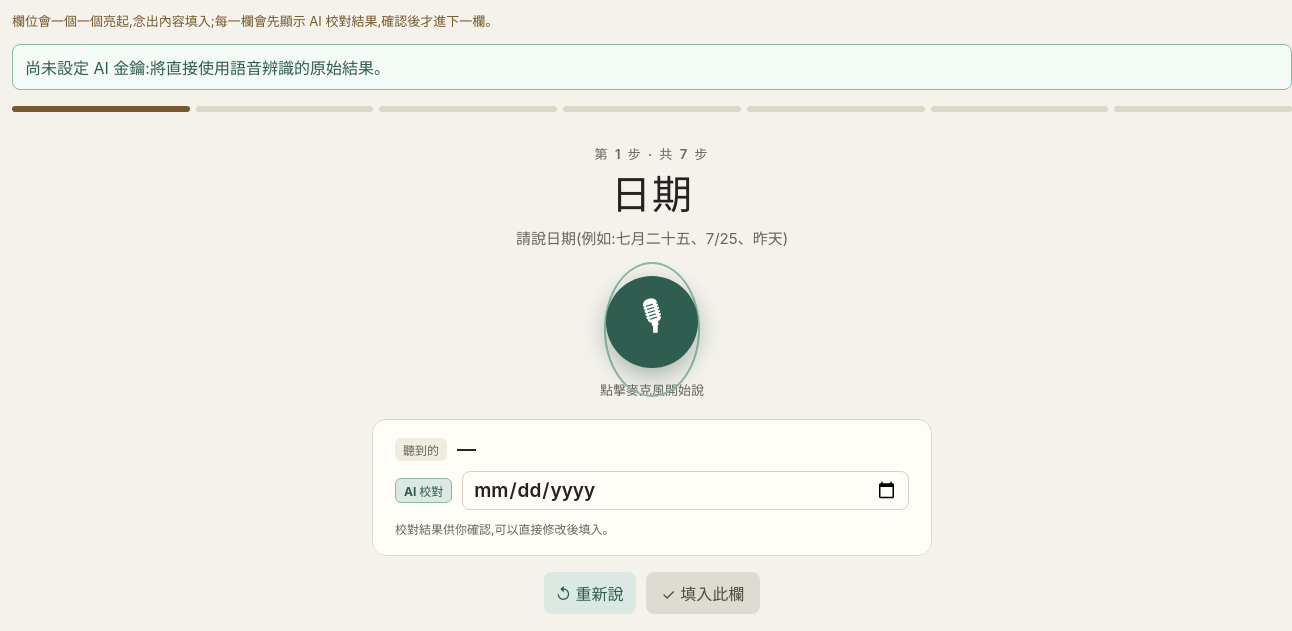
Scenario: ModeBPanel › falls back to the raw transcript when AI is not configured
The width and height of the screenshot is (1292, 631).
Click the button named "用說的": (652, 322) [606,276,698,368]
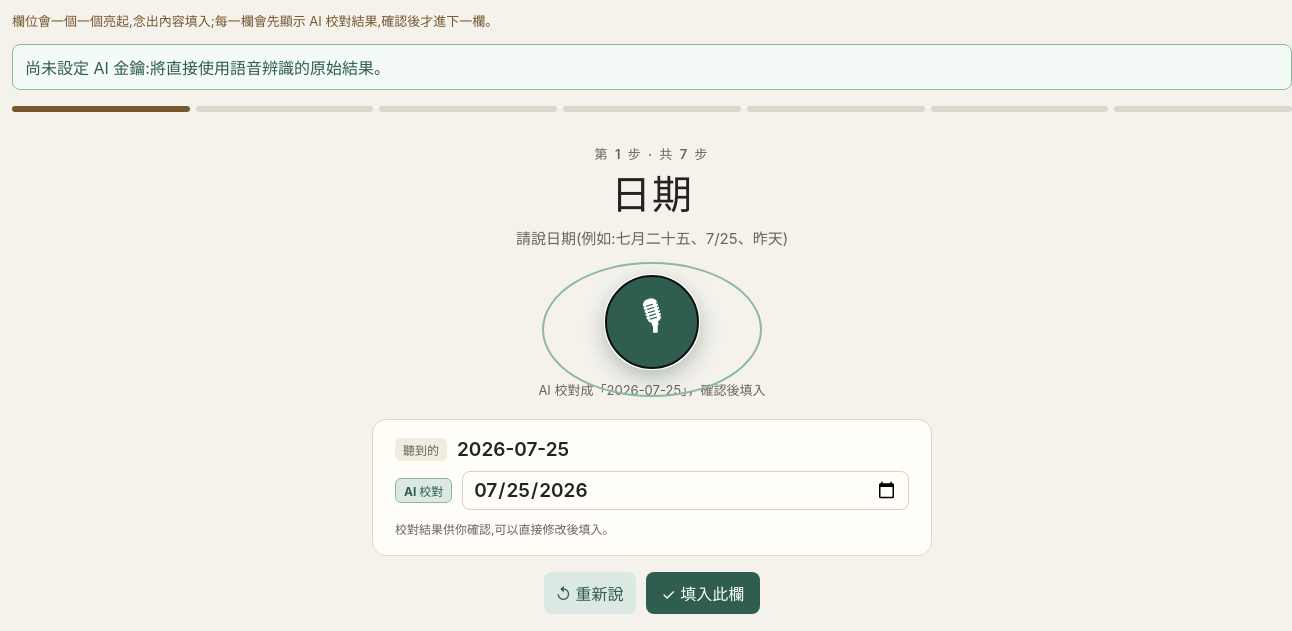
Check: the text "尚未設定 AI 金鑰:將直接使用語音辨識的原始結果。" is shown, box [12,44,1291,90]
Check: the date field named "日期" holds "2026-07-25", box [462,471,909,510]
